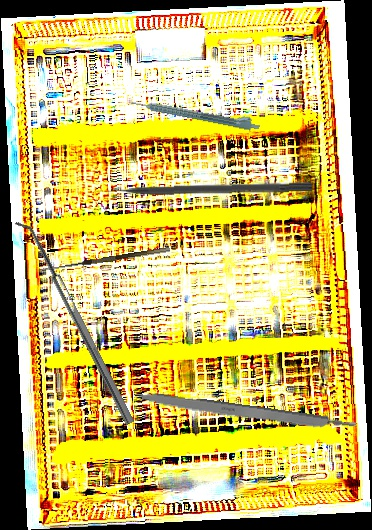Handpiece: (129, 92, 262, 133)
Hook Surgical: (41, 246, 172, 279)
Pusher: (93, 180, 313, 196)
Scalpel Handle: (133, 389, 358, 436)
Spatula Surgical: (13, 215, 135, 430)
